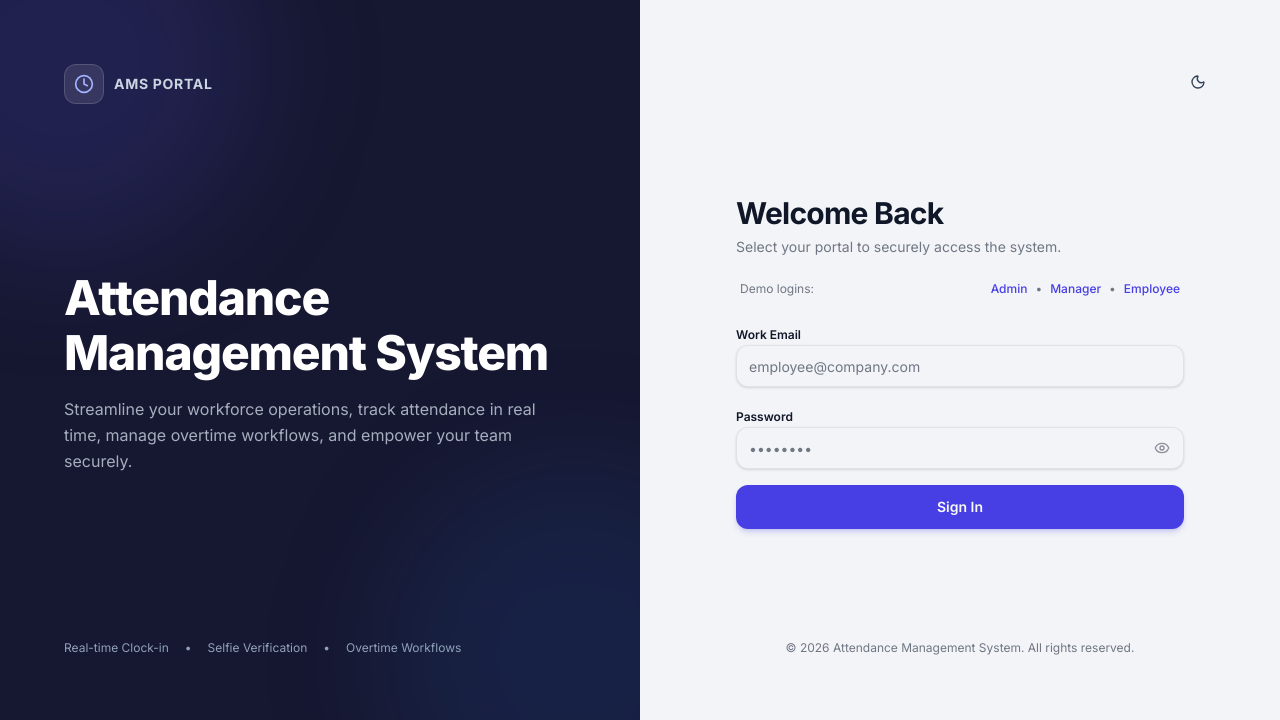
it: Auth Forms Server Error Surfacing › LoginPage surfaces server error message when login fails
Step 1. Type "inactive@company.com" into the field labelled "Work Email" → (960, 366), box [736,345,1184,387]
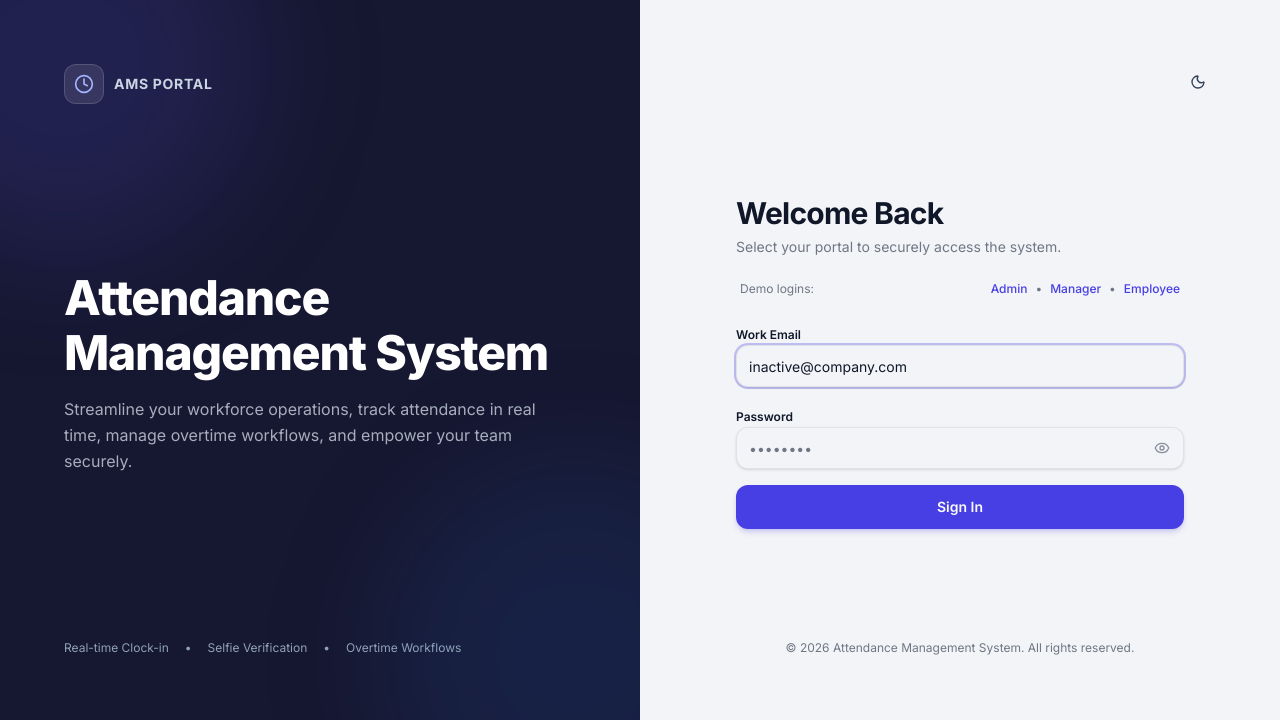
Step 2. Type "Password123" into the password field labelled "Password" → (960, 448), box [736,427,1184,469]
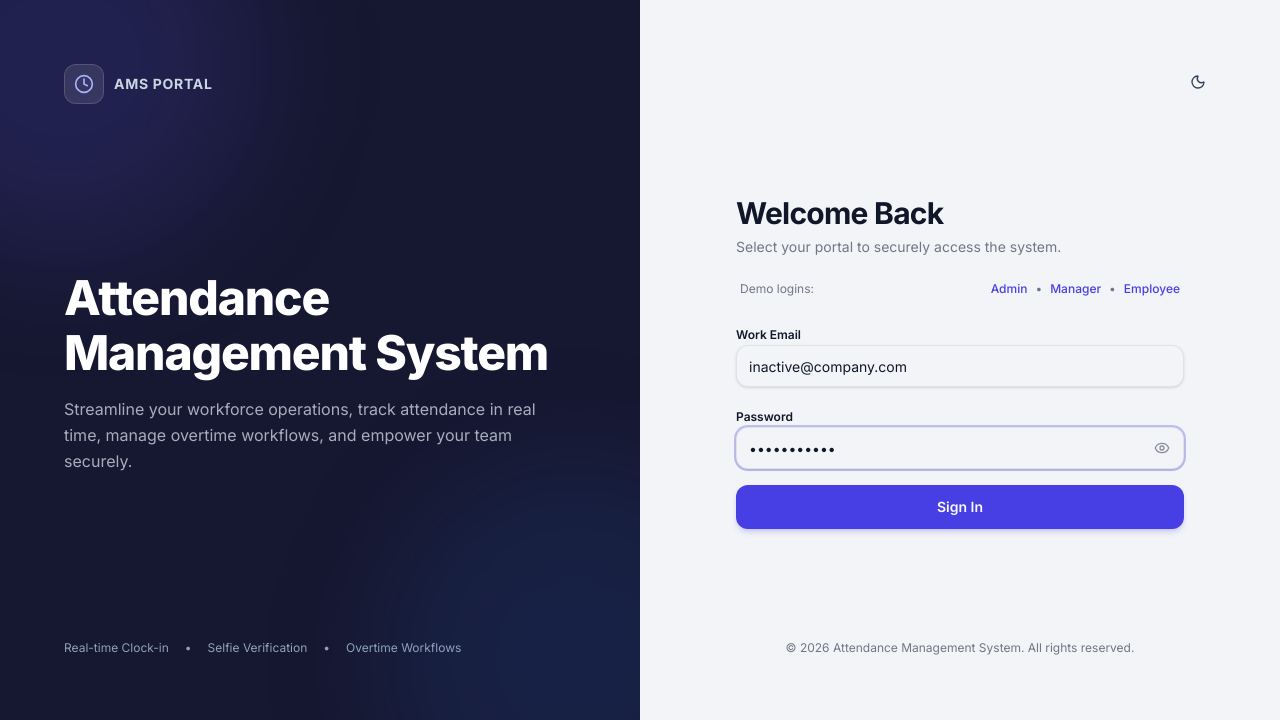
Step 3. Click the button "Sign In" → (960, 507), box [736,485,1184,529]
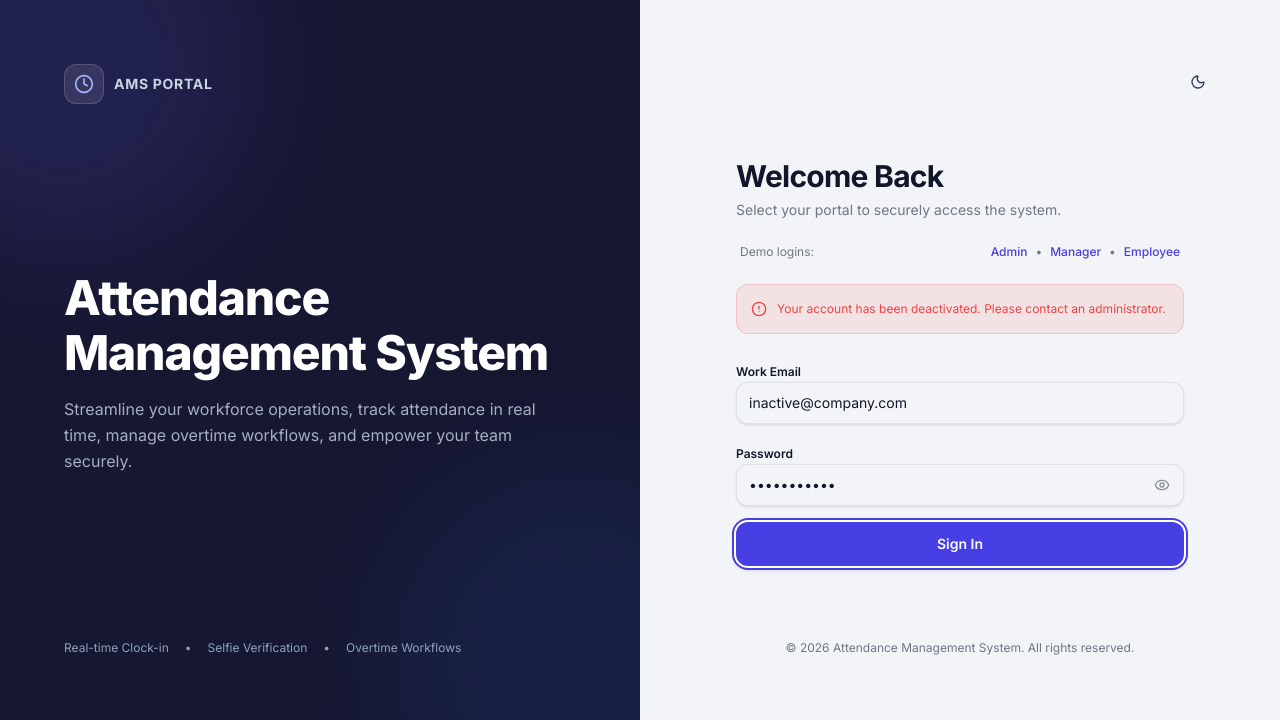
Check: the text "Your account has been deactivated" is shown, box [777,301,1166,316]
